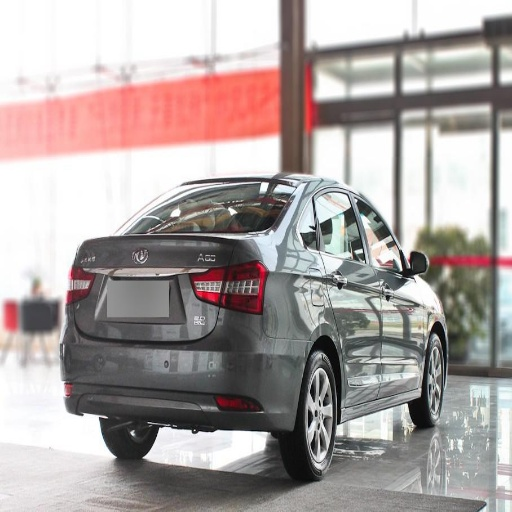back_bumper: (59, 307, 308, 424)
back_right_door: (297, 186, 380, 393)
